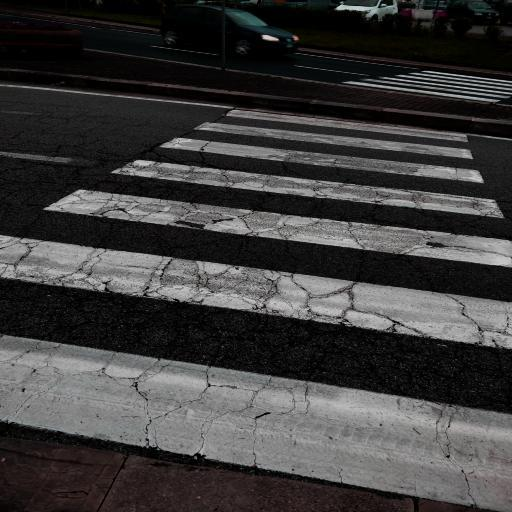crosswalk: (106, 127, 506, 224)
